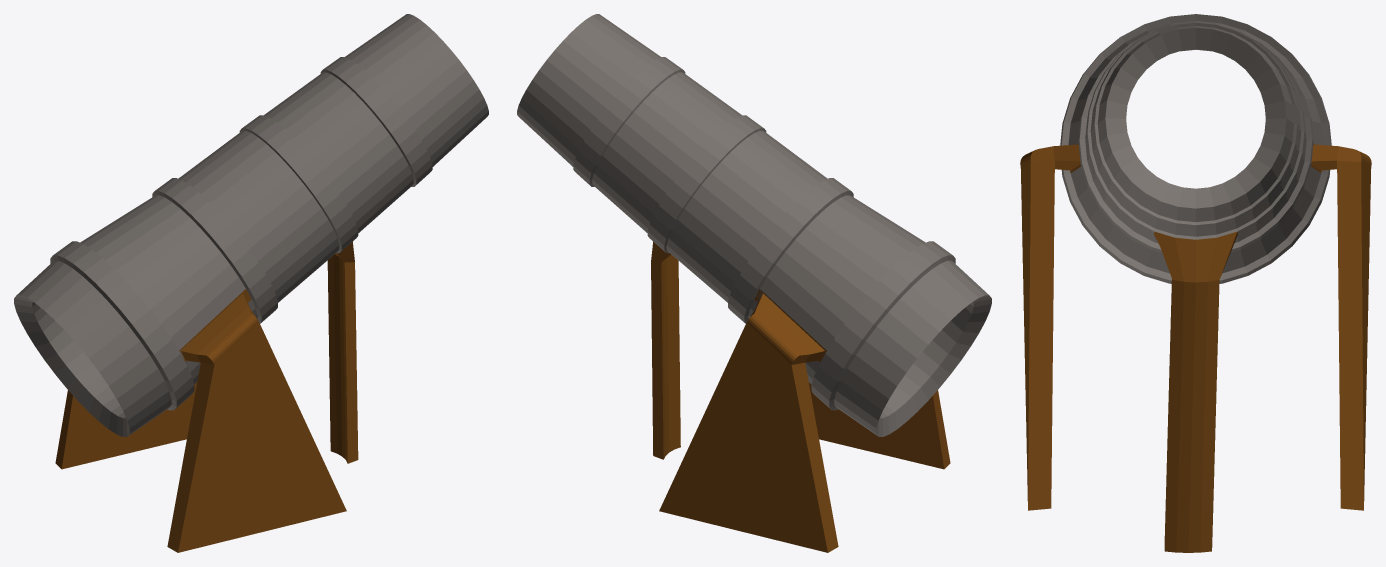
Rendered from Cannon.fbx.
3 views of the same model, side by side, from view 1: azimuth 30°, elevation 25°; view 2: azimuth 150°, elevation 25°; view 3: azimuth 270°, elevation 25° (orthographic). The views are drawn at different scales.
Parts seen in each view (by area): view 1: Cannon; view 2: Cannon; view 3: Cannon.
Boxes of the visible parts, x1,y1,x2,y2 form: Cannon: (14,14,488,552); Cannon: (517,14,991,552); Cannon: (1020,14,1371,552).
Bounding box in the file's own units: 181 × 164 × 90.91.
